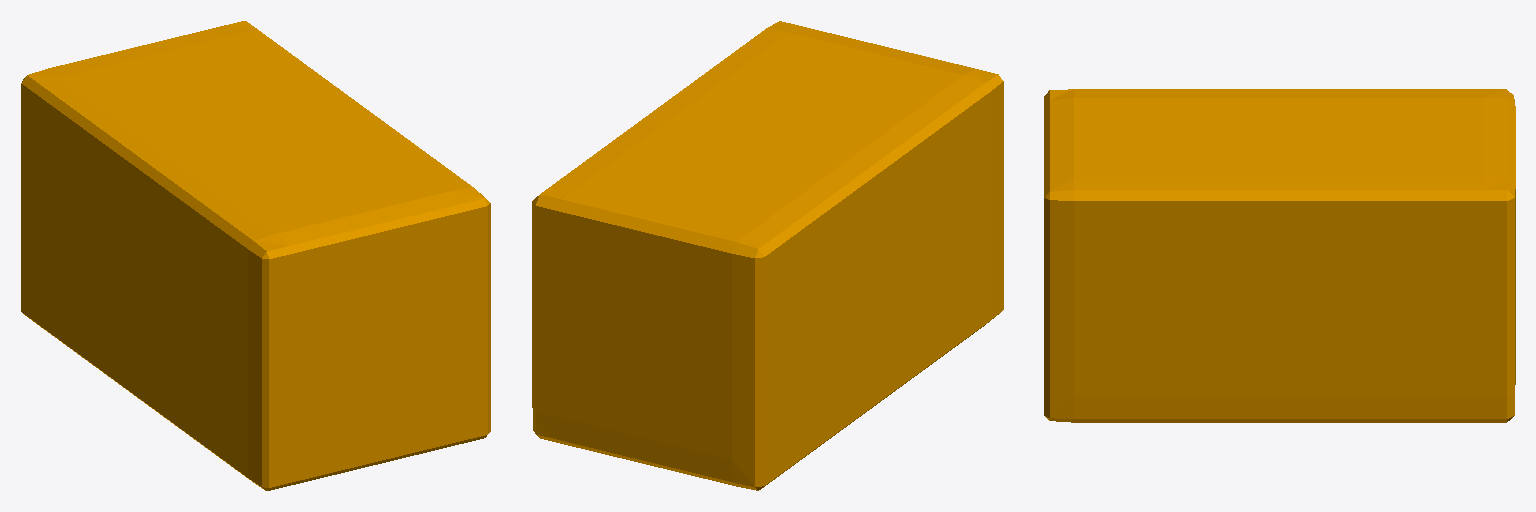
robot.urdf — cylinder_box_5:
<?xml version="1.0" encoding="utf-8"?>  <robot name="cylinder_box_5">   <link name="cylinder_box_5">     <visual>       <geometry>         <mesh filename="../meshes/box/box_5.stl" scale="1 1 1"/>       </geometry>     </visual>     <collision>       <geometry>         <mesh filename="../meshes/box/box_5.stl" scale="1 1 1"/>       </geometry>     </collision>     <inertial>        <origin         xyz="0 0 0"         rpy="0 0 0" />       <mass value="0.27610427582813735"/>       <origin rpy="0 0 0" xyz="0 0 0"/>       <inertia ixx="0.0002843856401428632" ixy="-9.79533192819111e-08" ixz="-3.012816173740609e-08" iyy="0.0001296151225806106" iyz="-3.7945728063124376e-08" izz="0.00028319632331405645"/>     </inertial>   </link>  </robot>

--- Render facts (derived) ---
Views: 3 orthographic renders of the robot side by side, from view 1: azimuth 30°, elevation 25°; view 2: azimuth 150°, elevation 25°; view 3: azimuth 270°, elevation 25°.
Robot: cylinder_box_5 — 1 links, 0 joints (none); root link cylinder_box_5; default pose: every joint at zero.
Visible links, largest first — view 1: cylinder_box_5; view 2: cylinder_box_5; view 3: cylinder_box_5.
Link boxes in pixels (bbox=[...]): cylinder_box_5: bbox=[21, 21, 490, 490]; cylinder_box_5: bbox=[532, 21, 1003, 490]; cylinder_box_5: bbox=[1044, 89, 1515, 422].
Size in the robot's own frame: 0.053 by 0.0978 by 0.0535 metres.
Meshes: 1 distinct files referenced, 1 mesh visuals loaded (1 binary STL).